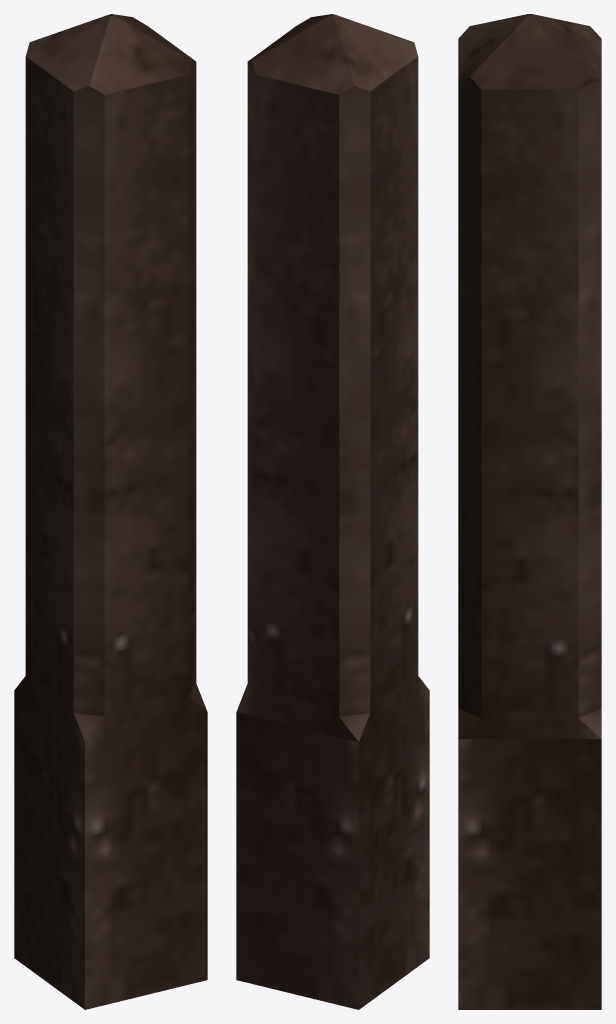
Rendered from Urban_SquareBollard_Model.fbx.
3 renders of one model, left to right at view 1: azimuth 30°, elevation 25°; view 2: azimuth 150°, elevation 25°; view 3: azimuth 270°, elevation 25°, orthographic.
Parts seen in each view (by area): view 1: Urban_SquareBollard_Mesh; view 2: Urban_SquareBollard_Mesh; view 3: Urban_SquareBollard_Mesh.
Boxes of the visible parts, box(x1,y1,x2,y2) form: Urban_SquareBollard_Mesh: box(14, 14, 207, 1009); Urban_SquareBollard_Mesh: box(236, 14, 429, 1009); Urban_SquareBollard_Mesh: box(458, 14, 601, 1009).
Size of the model in its own units: 0.1818 by 1.35 by 0.1818.
